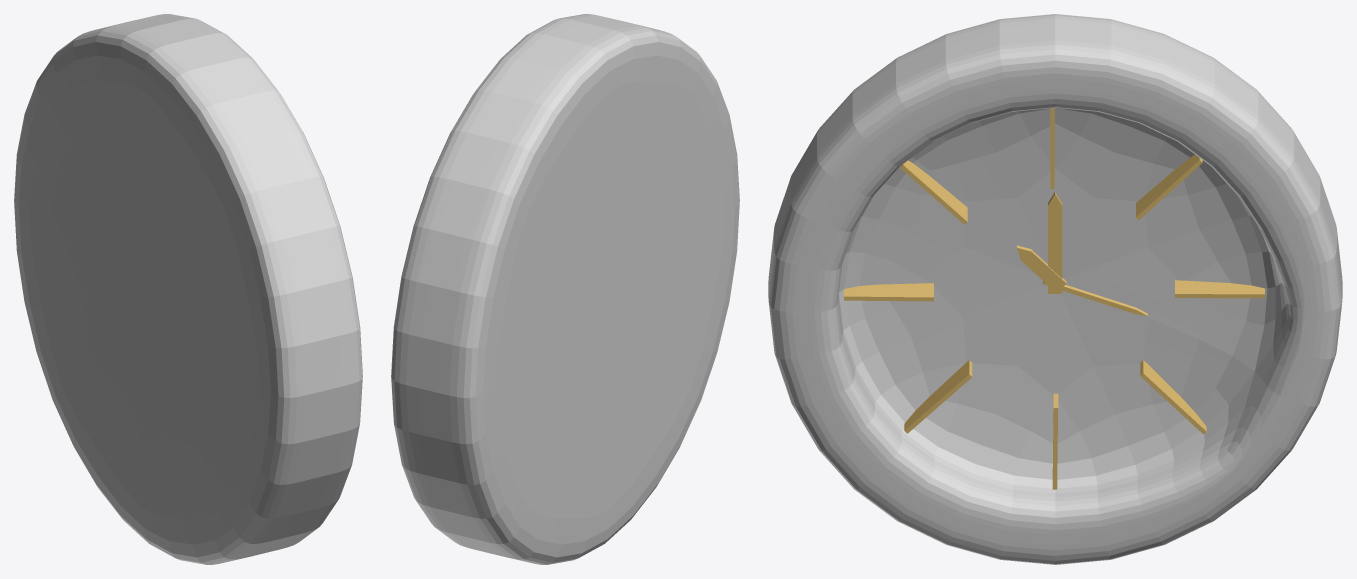
Rendered from Clock.fbx.
The picture shows the model from 3 angles, left to right: view 1: azimuth 30°, elevation 25°; view 2: azimuth 150°, elevation 25°; view 3: azimuth 270°, elevation 25°; orthographic projection. The views are drawn at different scales.
Visible parts, largest first — view 1: Clock1; view 2: Clock1; view 3: Clock1.
Part boxes in pixels (box(x1,y1,x2,y2)): Clock1: box(14, 14, 362, 564); Clock1: box(391, 14, 739, 564); Clock1: box(768, 14, 1342, 564).
Size of the model in its own units: 10 by 54.14 by 54.14.
